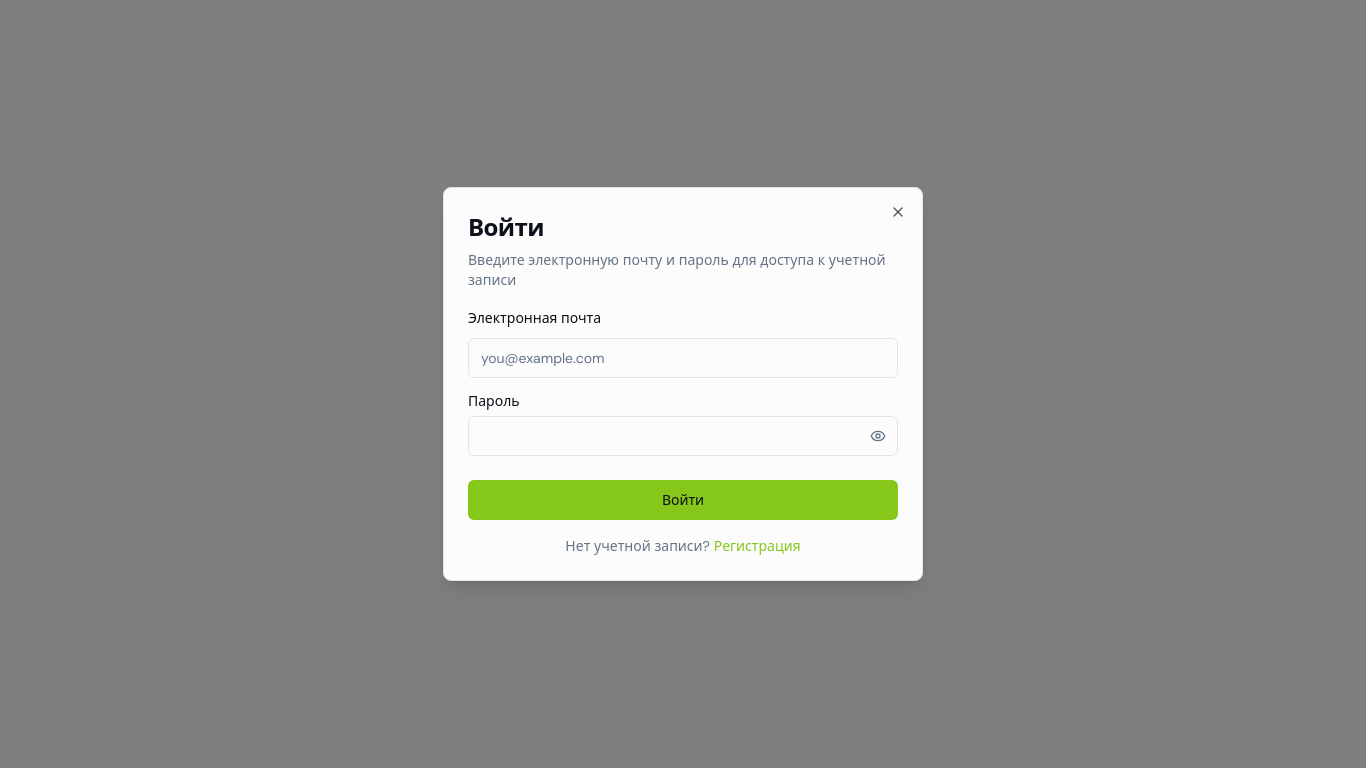
Test: credentials the server refused, in ru › falls back to one generic line for a failure it cannot name
The width and height of the screenshot is (1366, 768).
Type "user@test.com" into the field labelled "Электронная почта". click: (683,358)
box: [468, 338, 898, 378]
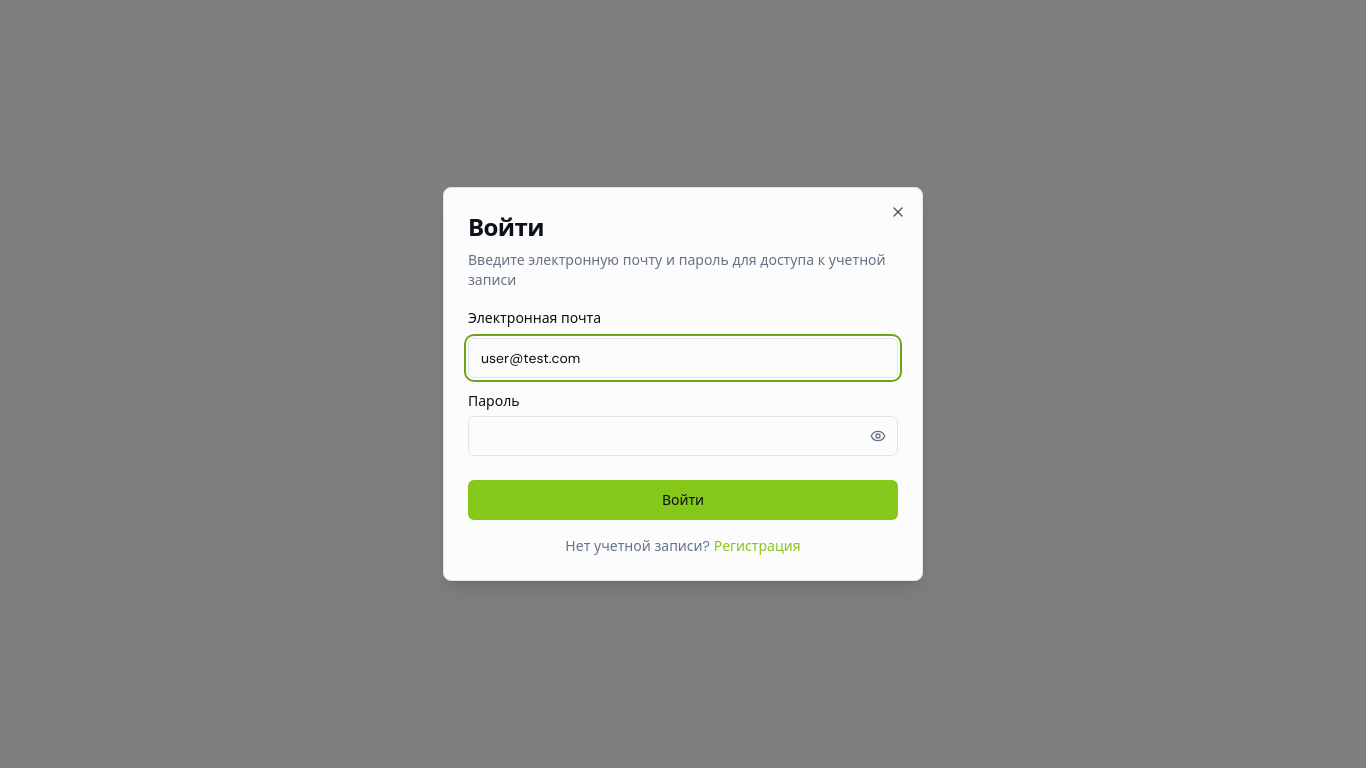
Type "validpass1" into the password field labelled "Пароль". click: (683,436)
box: [468, 416, 898, 456]
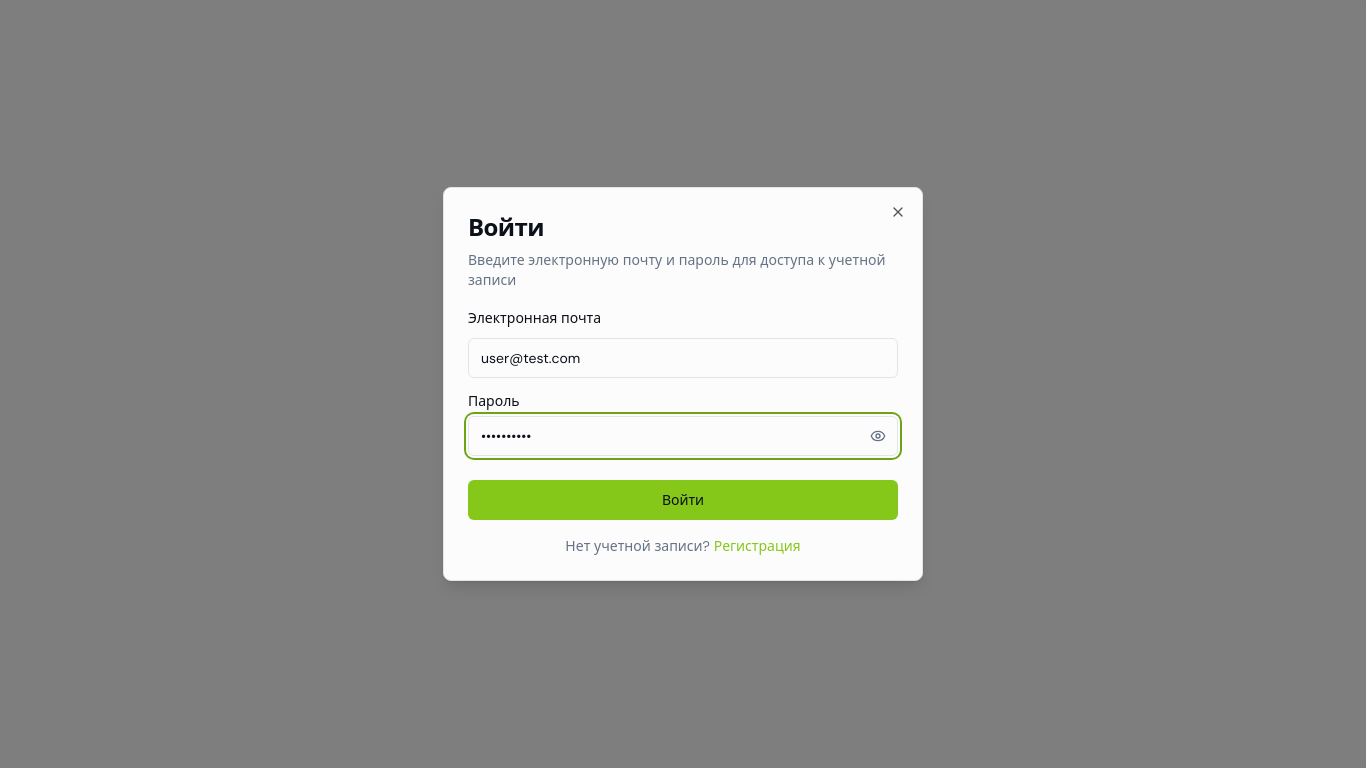
Click the button "Войти". click: (683,500)
box: [468, 480, 898, 520]
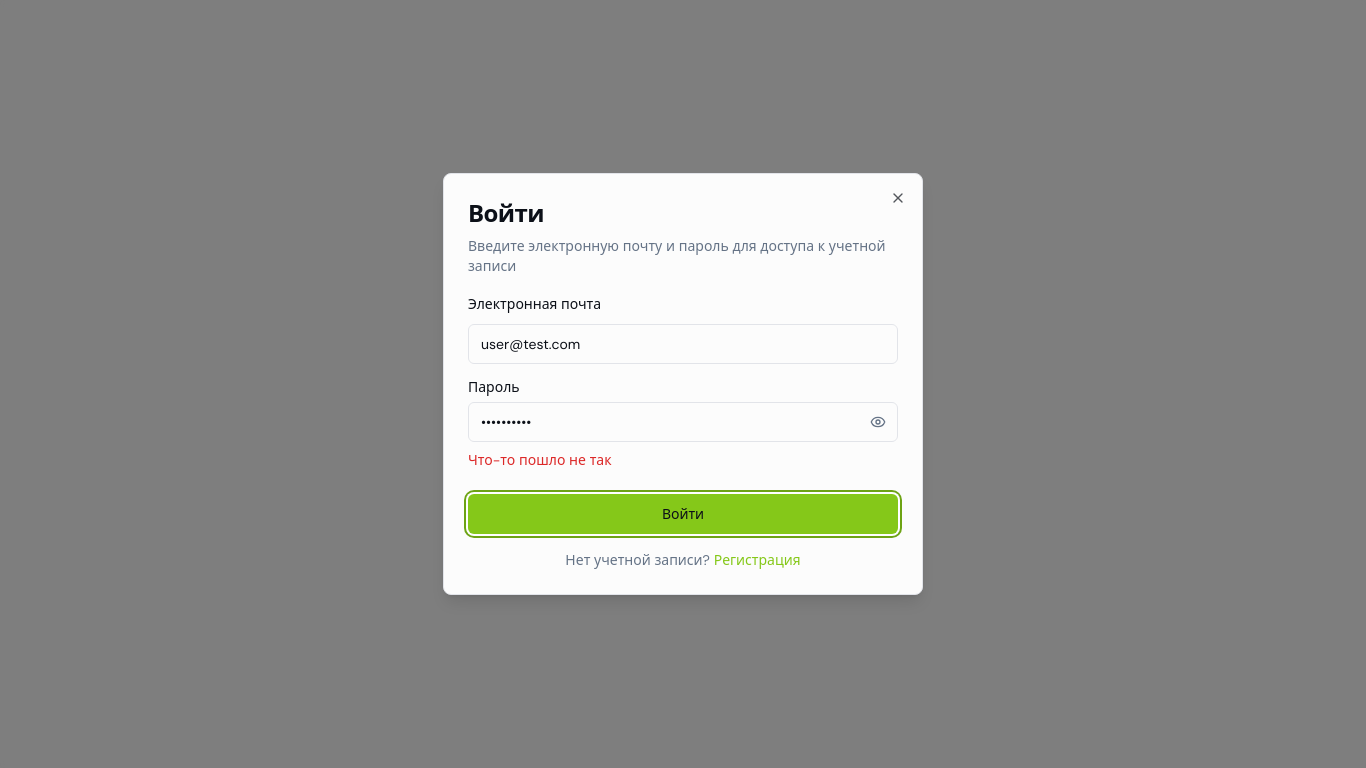
Expected: the text "Что-то пошло не так" is shown, [468, 451, 612, 469]
